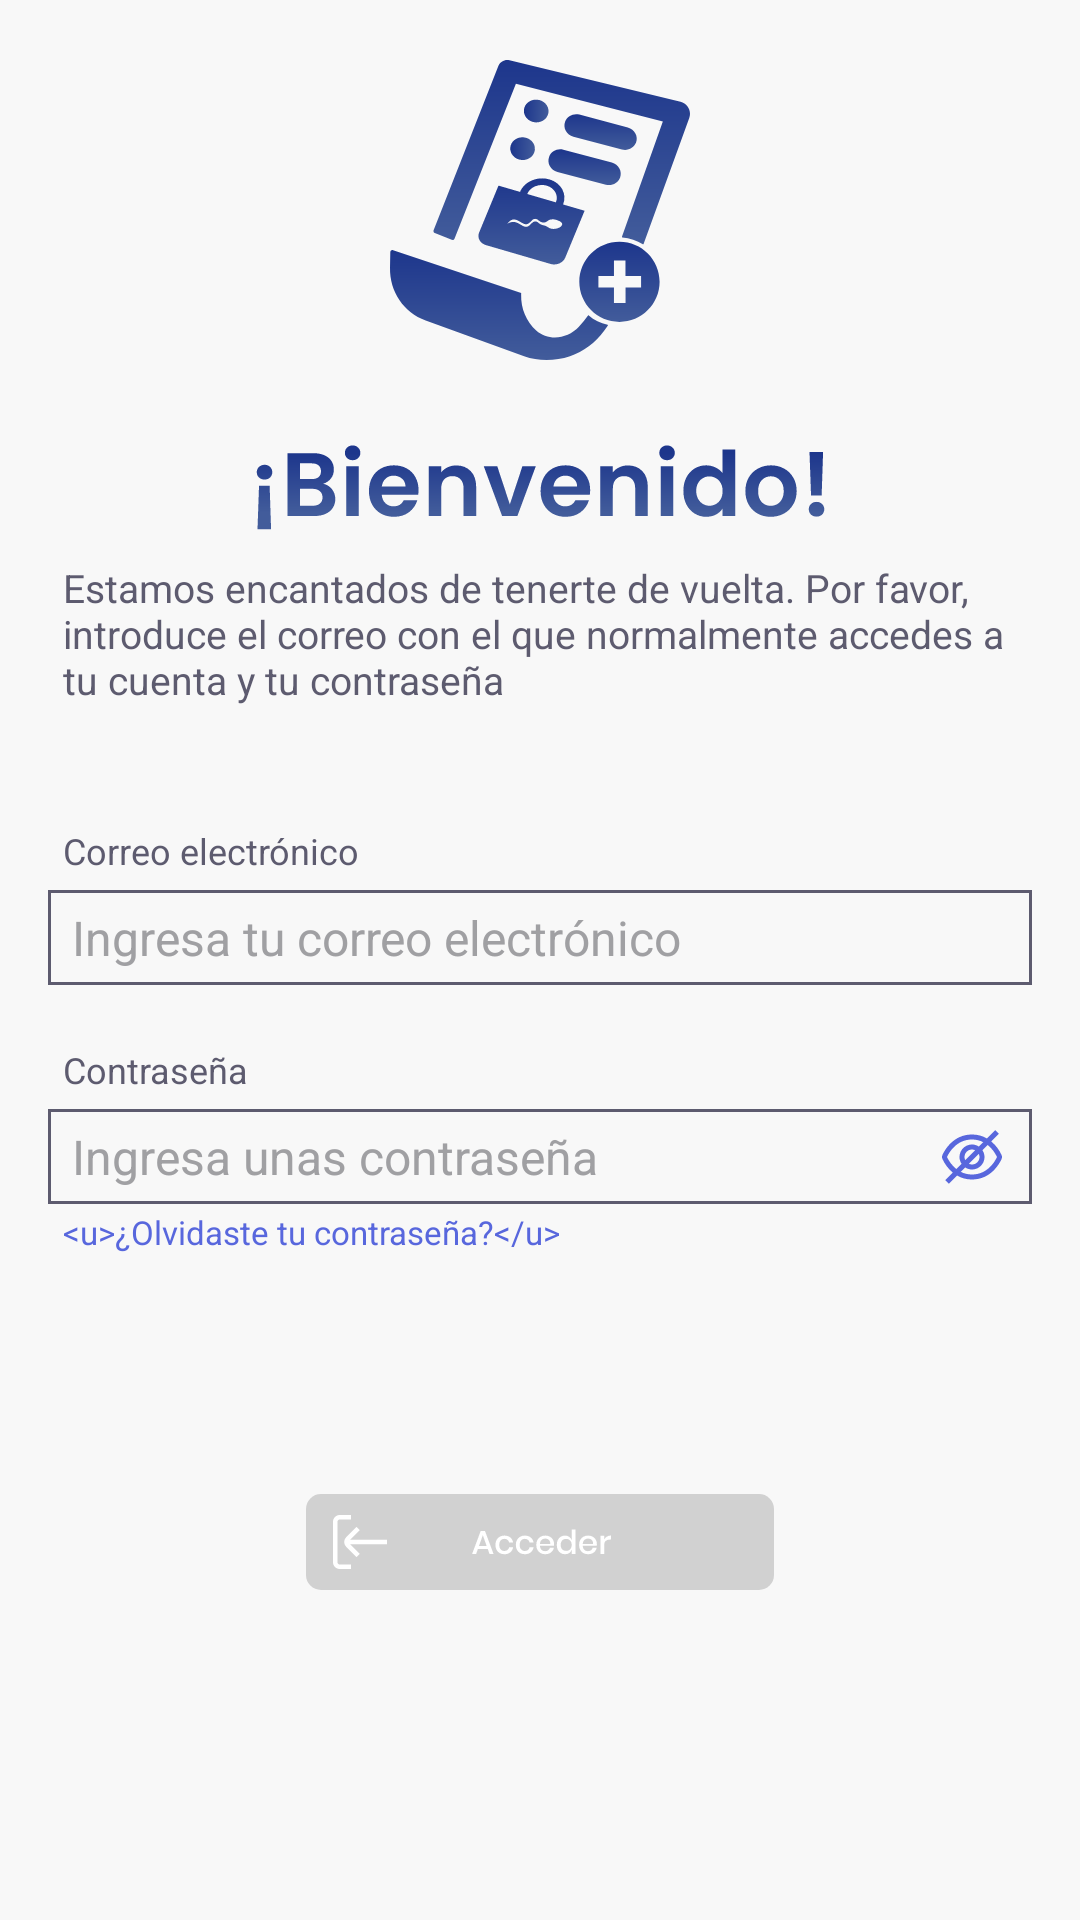

Where icons sit on this 1080 × 1920 app screen, as Rect(x1, y1, x2, y2):
ojo password: Rect(942, 1130, 1002, 1184)
pedidos azul: Rect(390, 60, 690, 360)
